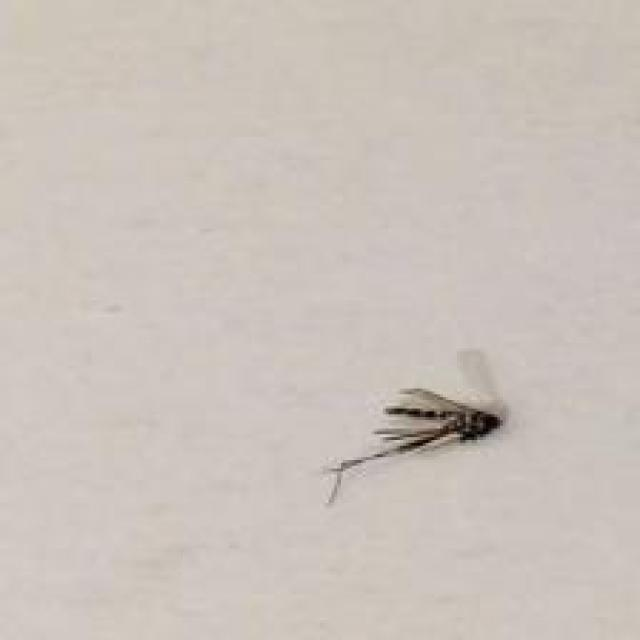Aedes albopictus: (323, 346, 508, 506)
